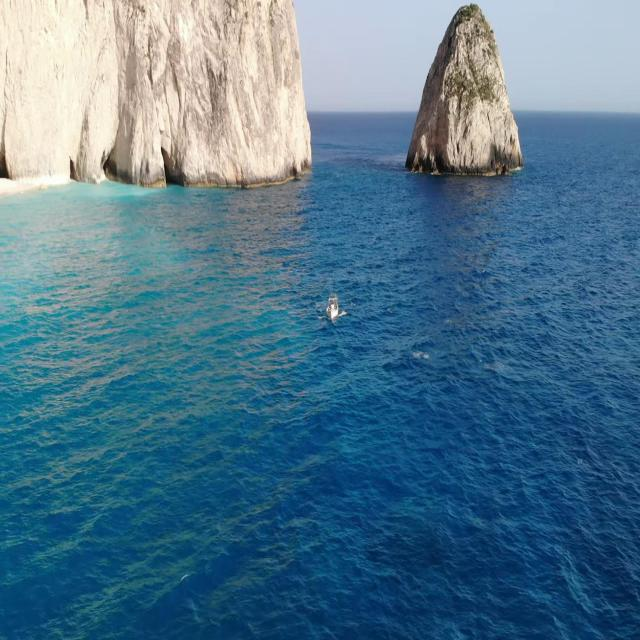boat: (326, 290, 340, 322)
